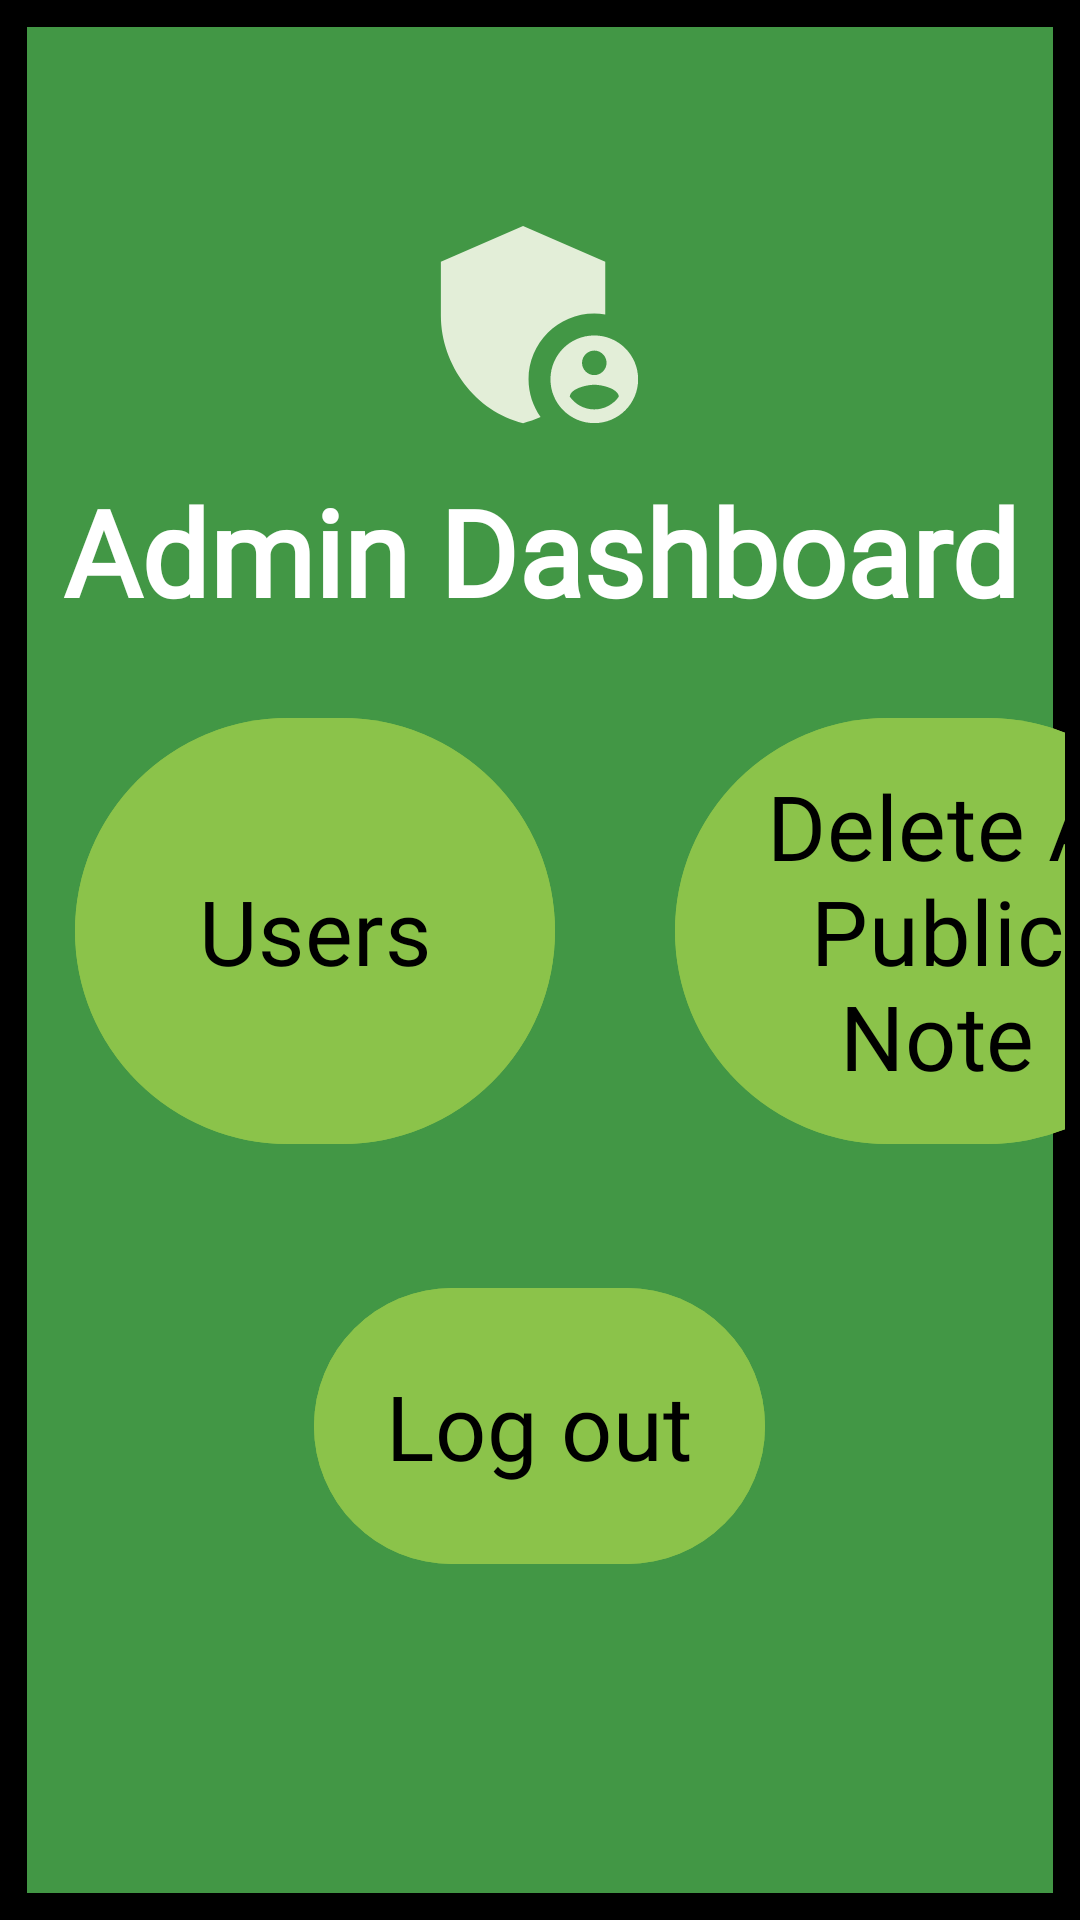

Screen size 1080*1920. Icon name, then its center in pixels as (x=x, y=y):
admin panel settings: (x=539, y=324)
